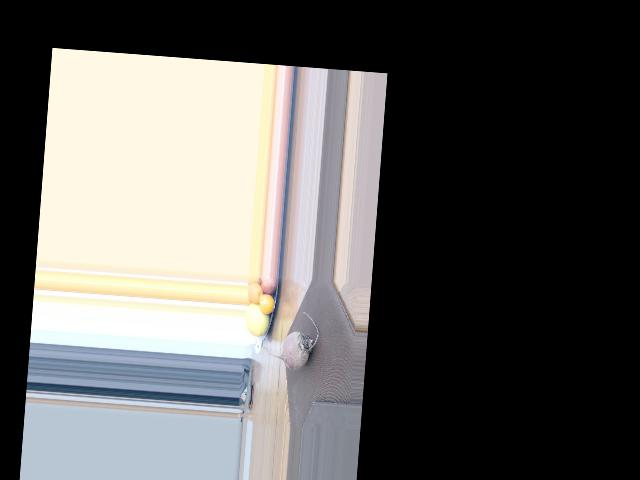beet: (264, 309, 320, 371)
